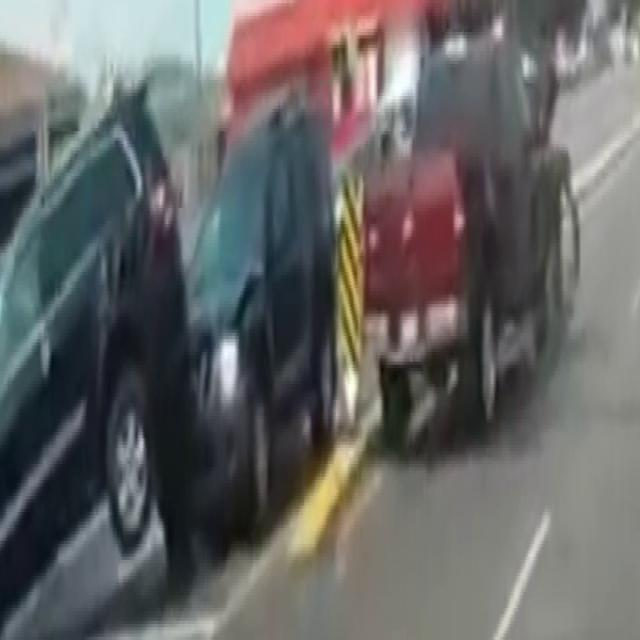accident: (14, 49, 318, 602)
